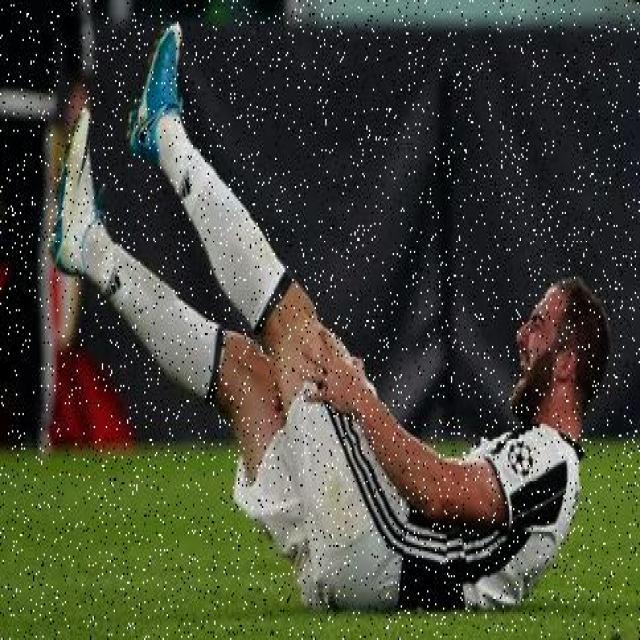fall: (134, 232, 608, 608)
